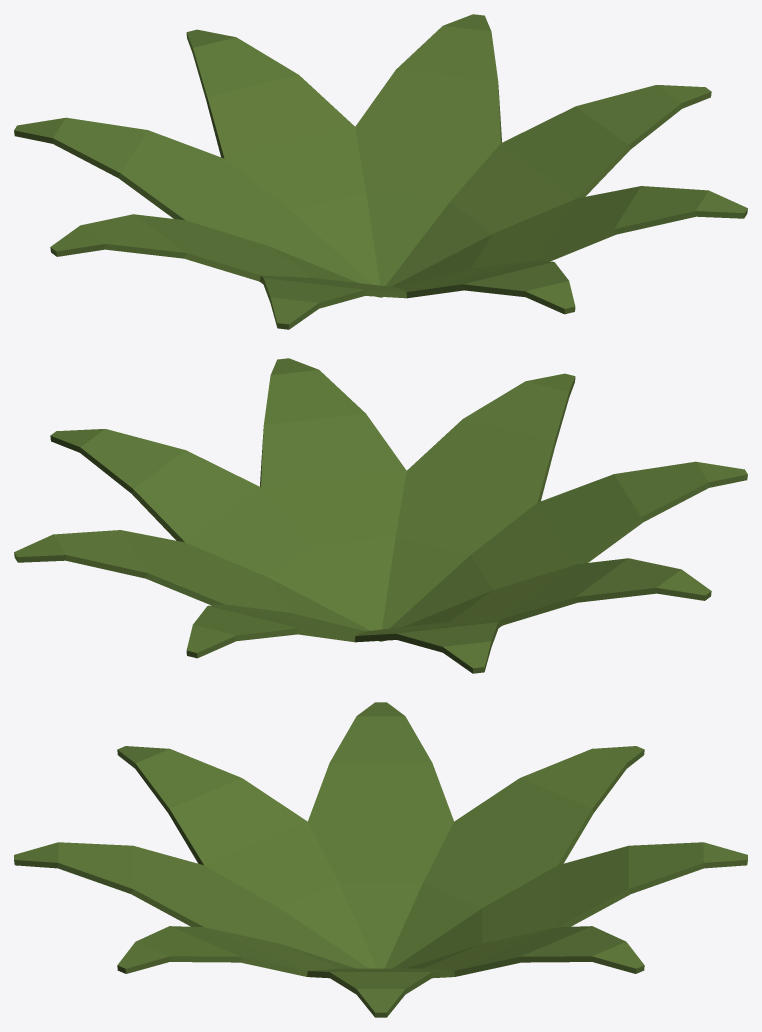
The model's file is Grass_2_1.fbx.
The picture shows the model from 3 angles, top to bottom: view 1: azimuth 30°, elevation 25°; view 2: azimuth 150°, elevation 25°; view 3: azimuth 270°, elevation 25°; orthographic projection. The views are drawn at different scales.
Parts seen in each view (by area): view 1: Grass_2_1; view 2: Grass_2_1; view 3: Grass_2_1.
Boxes of the visible parts, x1,y1,x2,y2 form: Grass_2_1: (14, 14, 747, 329); Grass_2_1: (14, 358, 747, 673); Grass_2_1: (14, 702, 747, 1017).
Size of the model in its own units: 35.25 by 6.86 by 35.25.
